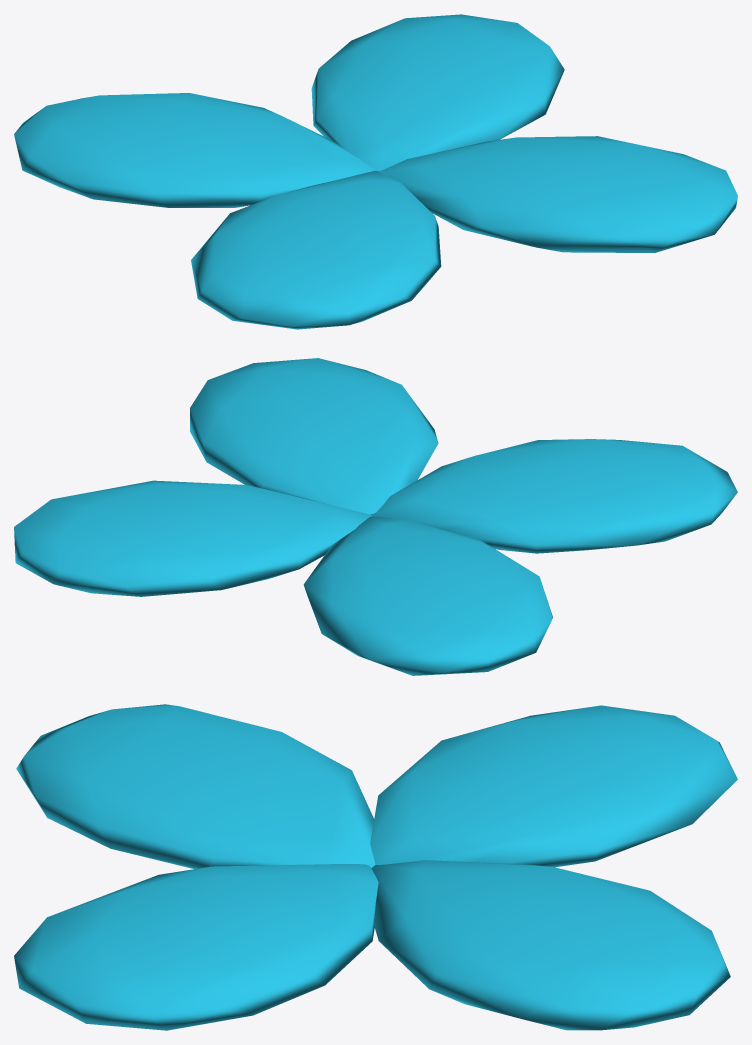
File: blueflower.fbx
3 renders of one model, top to bottom at view 1: azimuth 30°, elevation 25°; view 2: azimuth 150°, elevation 25°; view 3: azimuth 270°, elevation 25°, orthographic. The views are drawn at different scales.
Visible parts, largest first — view 1: flower1_3.001; view 2: flower1_3.001; view 3: flower1_3.001.
Boxes of the visible parts, bbox=[...] form: flower1_3.001: bbox=[14, 14, 737, 329]; flower1_3.001: bbox=[14, 358, 737, 675]; flower1_3.001: bbox=[14, 704, 737, 1030].
Size of the model in its own units: 41.83 by 3.74 by 41.03.
